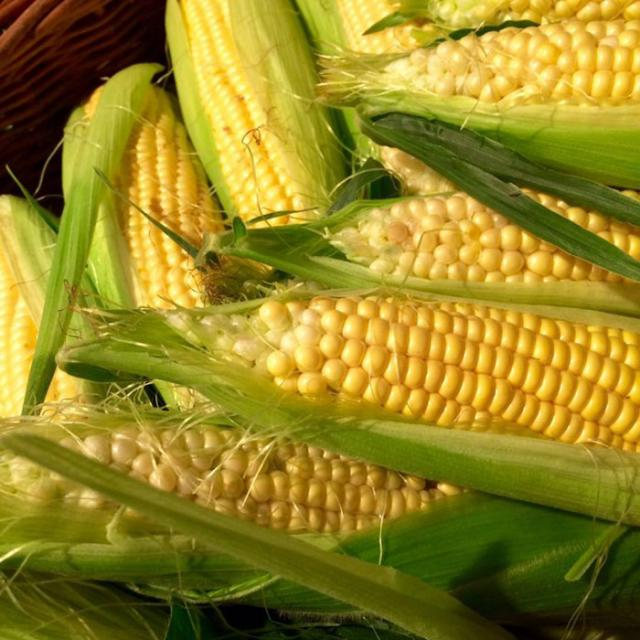corn: (246, 280, 640, 477), (36, 412, 491, 553), (73, 84, 238, 374), (168, 0, 338, 249), (307, 193, 640, 296), (369, 17, 640, 132)
